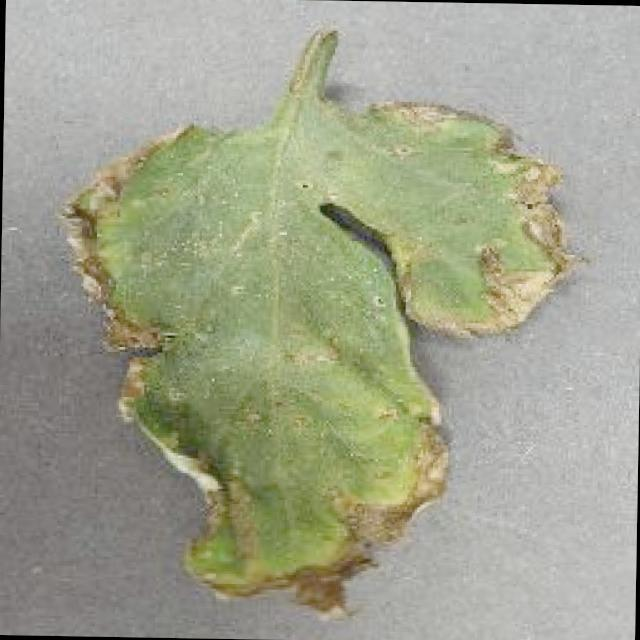Tomato bacterial spot leaf: (38, 13, 602, 634)
